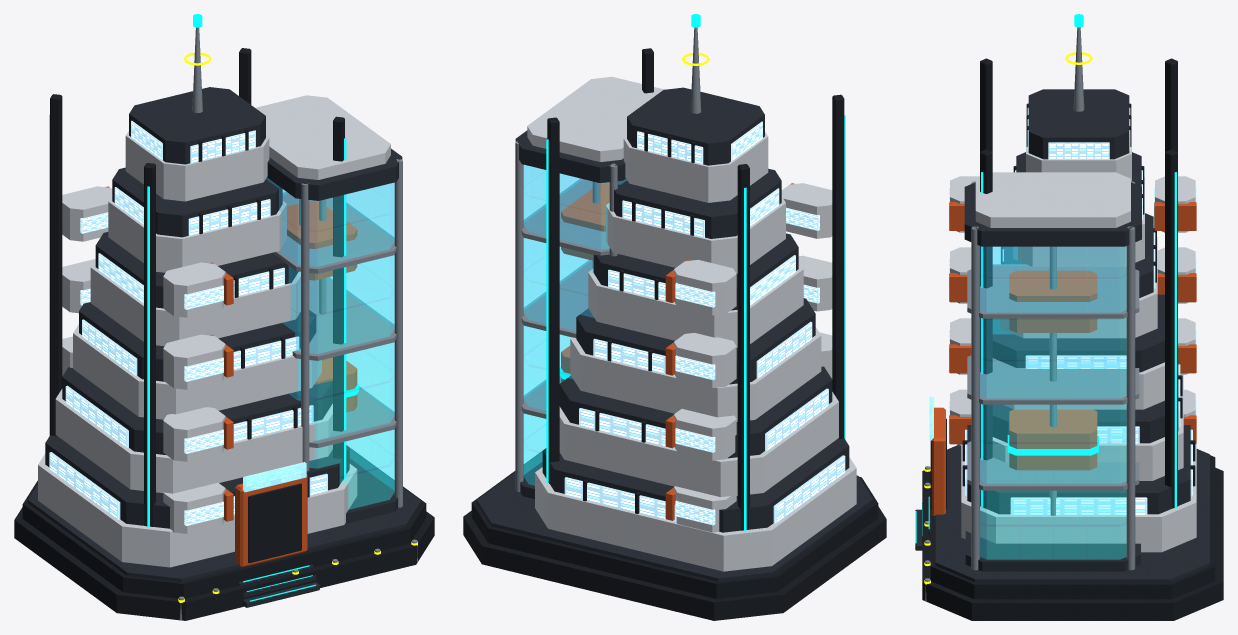
File: bldg_01_r1_04.glb
3 views of the same model, side by side, from view 1: azimuth 30°, elevation 25°; view 2: azimuth 150°, elevation 25°; view 3: azimuth 270°, elevation 25° (orthographic). The views are drawn at different scales.
Parts seen in each view (by area): view 1: Bldg01_C04_aero_white, Bldg01_C04_carbon_slate, Bldg01_C04_gunmetal, Bldg01_C04_glass_cyan, Bldg01_C04_steel_machined, Bldg01_C04_window_lit, Bldg01_C04_accent_orange, Bldg01_C04_led_cyan, Bldg01_C04_marquee; view 2: Bldg01_C04_aero_white, Bldg01_C04_carbon_slate, Bldg01_C04_gunmetal, Bldg01_C04_window_lit, Bldg01_C04_glass_cyan, Bldg01_C04_steel_machined, Bldg01_C04_accent_orange, Bldg01_C04_led_cyan; view 3: Bldg01_C04_glass_cyan, Bldg01_C04_carbon_slate, Bldg01_C04_aero_white, Bldg01_C04_gunmetal, Bldg01_C04_steel_machined, Bldg01_C04_accent_orange, Bldg01_C04_window_lit, Bldg01_C04_led_cyan.
Boxes of the visible parts, x1,y1,x2,y2 form: Bldg01_C04_aero_white: (38, 95, 390, 567); Bldg01_C04_carbon_slate: (27, 87, 421, 607); Bldg01_C04_gunmetal: (14, 48, 434, 620); Bldg01_C04_glass_cyan: (266, 178, 394, 509); Bldg01_C04_steel_machined: (179, 27, 417, 620); Bldg01_C04_window_lit: (49, 120, 327, 525); Bldg01_C04_accent_orange: (105, 186, 357, 567); Bldg01_C04_led_cyan: (49, 14, 359, 601); Bldg01_C04_marquee: (243, 462, 306, 492); Bldg01_C04_aero_white: (527, 76, 856, 571); Bldg01_C04_carbon_slate: (477, 87, 872, 581); Bldg01_C04_gunmetal: (463, 48, 886, 620); Bldg01_C04_window_lit: (564, 121, 845, 525); Bldg01_C04_glass_cyan: (523, 165, 626, 485); Bldg01_C04_steel_machined: (515, 27, 869, 491); Bldg01_C04_accent_orange: (561, 183, 794, 520); Bldg01_C04_led_cyan: (546, 14, 845, 531); Bldg01_C04_glass_cyan: (980, 246, 1126, 559); Bldg01_C04_carbon_slate: (915, 89, 1209, 582); Bldg01_C04_aero_white: (950, 116, 1196, 552); Bldg01_C04_gunmetal: (922, 58, 1223, 620); Bldg01_C04_steel_machined: (924, 27, 1139, 601); Bldg01_C04_accent_orange: (931, 202, 1196, 515); Bldg01_C04_window_lit: (949, 102, 1196, 515); Bldg01_C04_led_cyan: (915, 14, 1176, 543).
Size of the model in its own units: 12 by 18.92 by 10.23.
10 materials, 10 textured.
